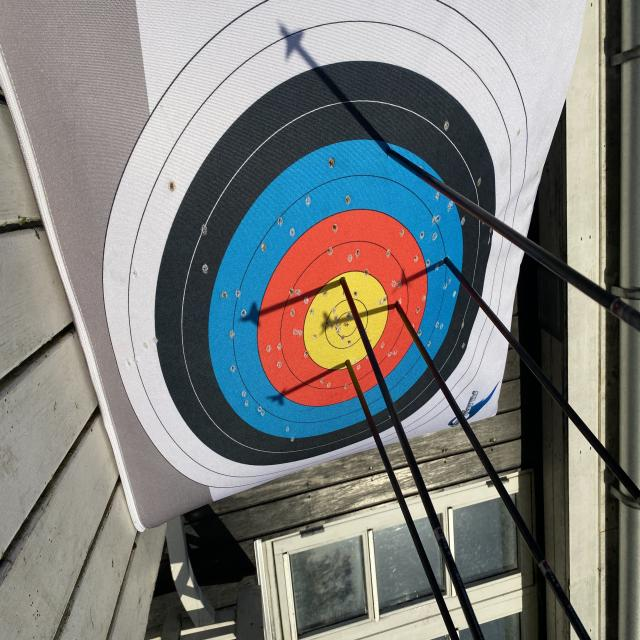Arrow_Blue: (372, 137, 402, 168), (433, 240, 458, 275)
Arrow_Red: (386, 292, 408, 320)
Arrow_Yellow: (328, 268, 356, 302), (335, 349, 363, 381)
